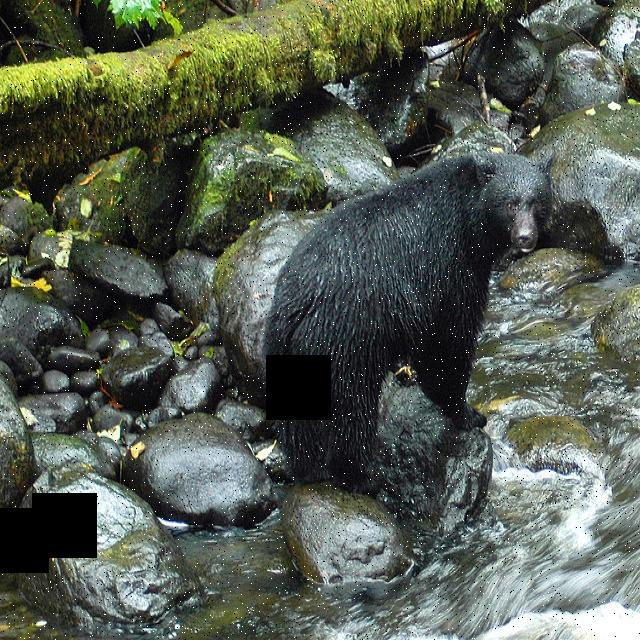Bear: (260, 132, 564, 490)
